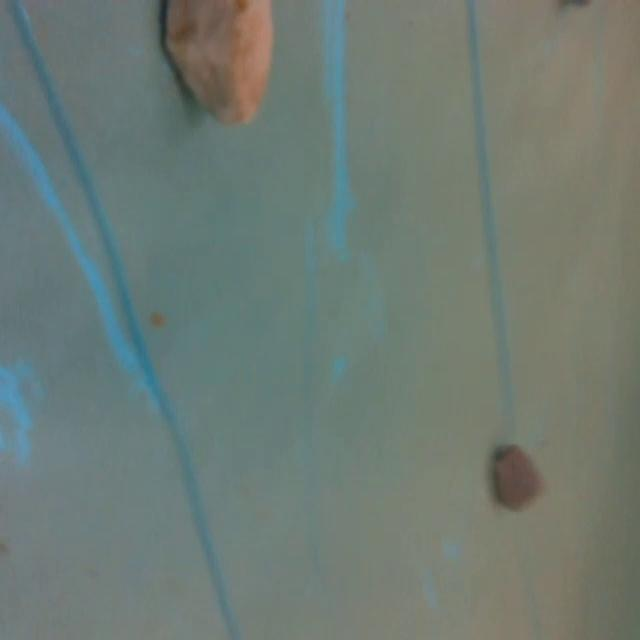rock: (158, 1, 281, 130), (487, 440, 551, 516)
